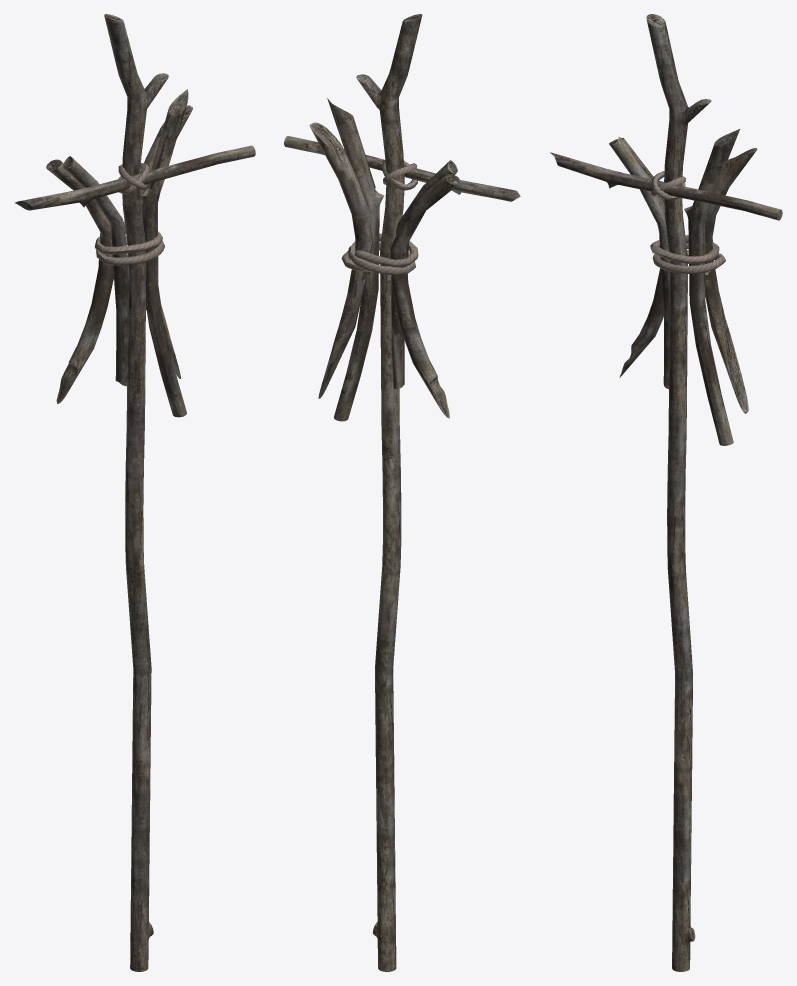
Rendered from SM_TwigTotems-2.fbx.
3 views of the same model, side by side, from view 1: azimuth 30°, elevation 25°; view 2: azimuth 150°, elevation 25°; view 3: azimuth 330°, elevation 25° (orthographic).
Visible parts, largest first — view 1: SM_TwigTotems-2_LOD0; view 2: SM_TwigTotems-2_LOD0; view 3: SM_TwigTotems-2_LOD0.
Boxes of the visible parts, x1,y1,x2,y2 form: SM_TwigTotems-2_LOD0: (15,14,255,971); SM_TwigTotems-2_LOD0: (284,14,520,971); SM_TwigTotems-2_LOD0: (550,14,782,971).
Bounding box in the file's own units: 64.15 × 17.38 × 249.
